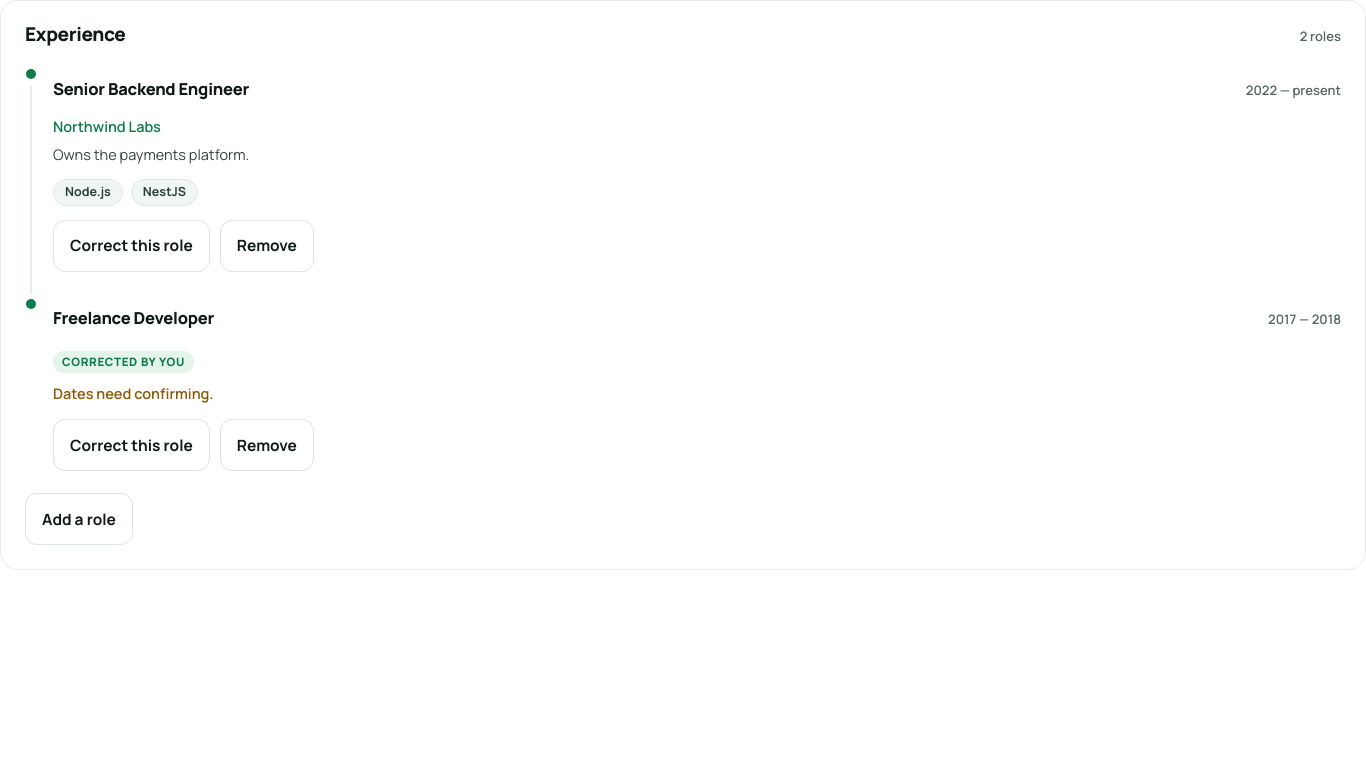
Test case: ExperienceCorrections › removes a role and says so when it could not be removed
Click the button with aria-label "Remove Freelance Developer" at [267, 445], box [220, 419, 314, 471]
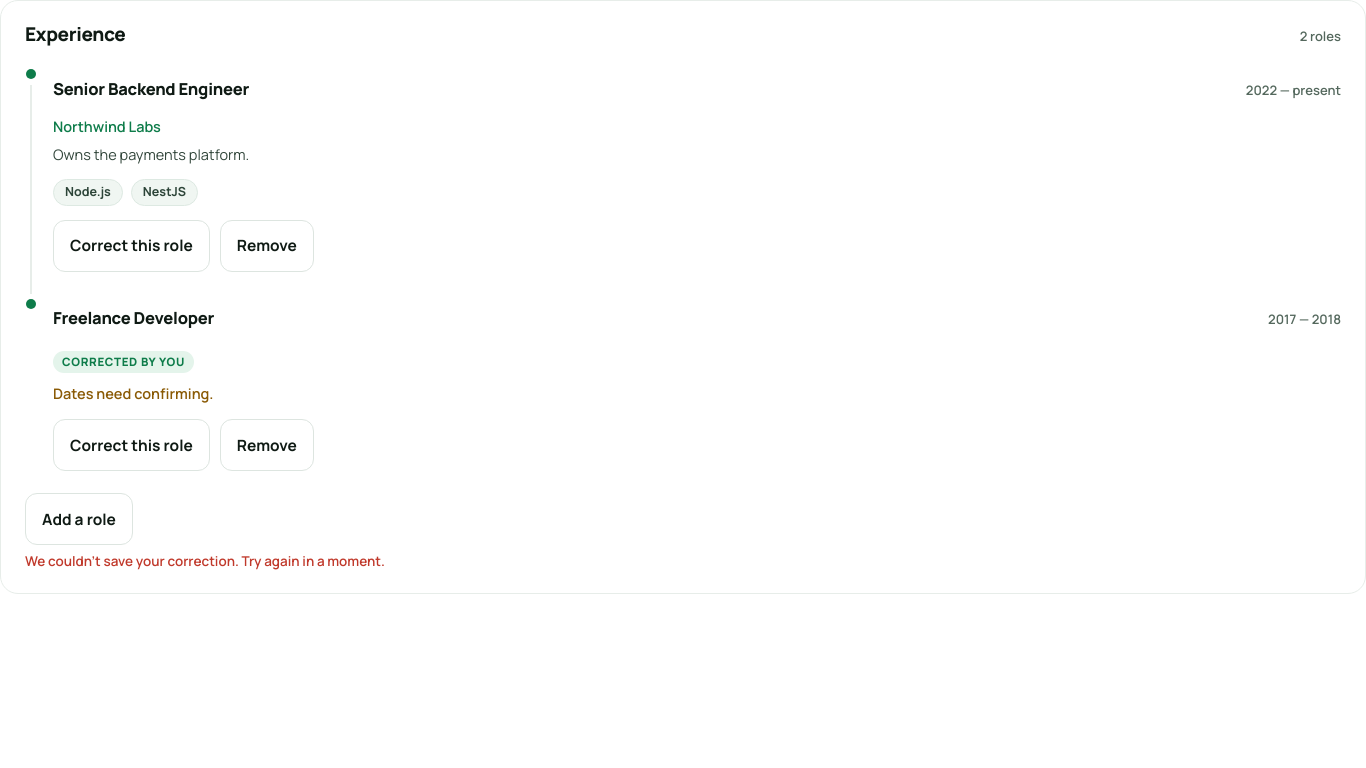
Expected: the text "We couldn't save your correction. Try again in a moment." is shown, [25, 555, 385, 569]
